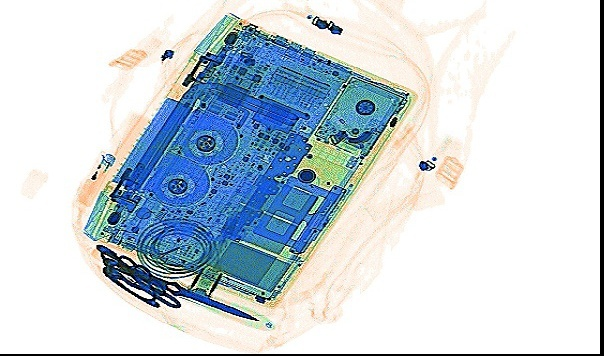knife: (151, 275, 274, 332)
lighter: (74, 150, 118, 206)
